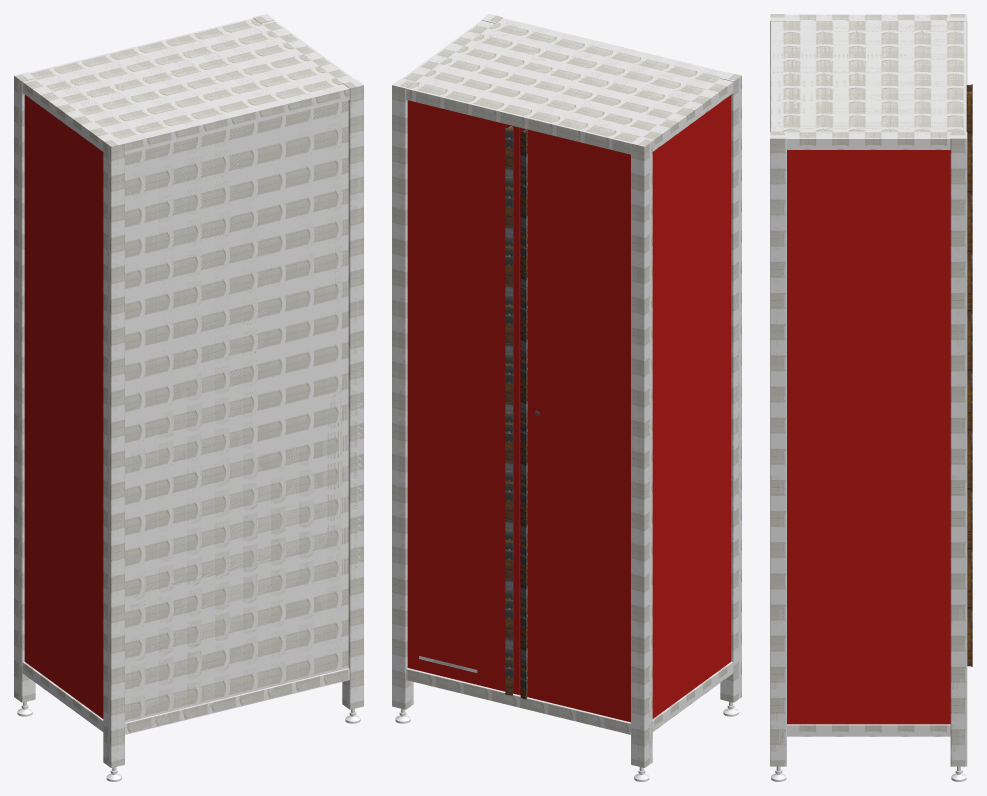
3 renders of one model, left to right at view 1: azimuth 30°, elevation 25°; view 2: azimuth 150°, elevation 25°; view 3: azimuth 270°, elevation 25°, orthographic.
Visible parts, largest first — view 1: mesh4_mesh4-geometry, mesh2_mesh2-geometry, mesh9_mesh9-geometry, mesh1_mesh1-geometry, mesh6_mesh6-geometry, mesh5_mesh5-geometry, mesh7_mesh7-geometry; view 2: mesh12_mesh12-geometry, mesh11_mesh11-geometry, mesh2_mesh2-geometry, mesh9_mesh9-geometry, mesh1_mesh1-geometry, mesh6_mesh6-geometry, mesh5_mesh5-geometry, mesh7_mesh7-geometry; view 3: mesh3_mesh3-geometry, mesh9_mesh9-geometry, mesh1_mesh1-geometry, mesh6_mesh6-geometry, mesh12_mesh12-geometry, mesh7_mesh7-geometry.
Boxes of the visible parts, x1=… form: mesh4_mesh4-geometry: x1=125, y1=100, x2=348, y2=722; mesh2_mesh2-geometry: x1=24, y1=95, x2=103, y2=718; mesh9_mesh9-geometry: x1=14, y1=14, x2=363, y2=767; mesh1_mesh1-geometry: x1=29, y1=18, x2=349, y2=154; mesh6_mesh6-geometry: x1=22, y1=20, x2=354, y2=151; mesh5_mesh5-geometry: x1=125, y1=668, x2=349, y2=734; mesh7_mesh7-geometry: x1=22, y1=661, x2=103, y2=731; mesh12_mesh12-geometry: x1=407, y1=100, x2=519, y2=695; mesh11_mesh11-geometry: x1=519, y1=127, x2=630, y2=722; mesh2_mesh2-geometry: x1=652, y1=95, x2=731, y2=718; mesh9_mesh9-geometry: x1=392, y1=14, x2=741, y2=767; mesh1_mesh1-geometry: x1=406, y1=18, x2=726, y2=154; mesh6_mesh6-geometry: x1=401, y1=20, x2=733, y2=151; mesh5_mesh5-geometry: x1=406, y1=668, x2=630, y2=734; mesh7_mesh7-geometry: x1=652, y1=661, x2=733, y2=731; mesh3_mesh3-geometry: x1=787, y1=150, x2=950, y2=724; mesh9_mesh9-geometry: x1=770, y1=14, x2=967, y2=766; mesh1_mesh1-geometry: x1=771, y1=21, x2=966, y2=132; mesh6_mesh6-geometry: x1=787, y1=14, x2=950, y2=149; mesh12_mesh12-geometry: x1=966, y1=91, x2=972, y2=666; mesh7_mesh7-geometry: x1=787, y1=724, x2=950, y2=736.
Size of the model in its own units: 0.3713 by 0.893 by 0.2542.
